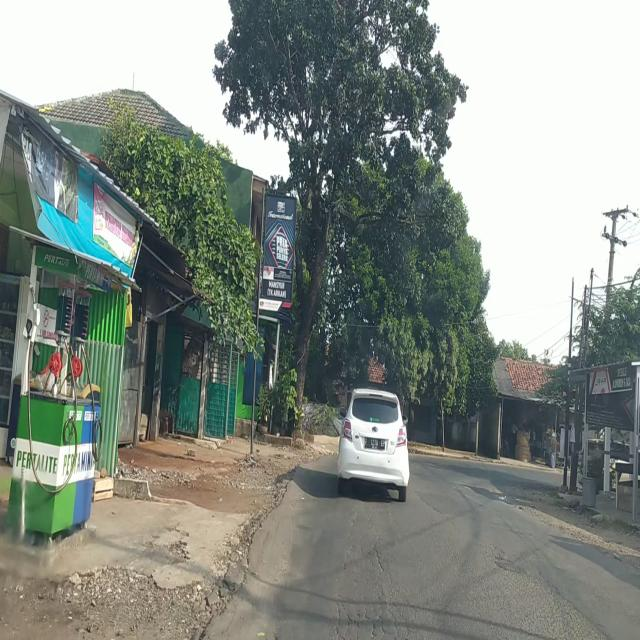Drain Hole: (328, 527, 412, 640)
